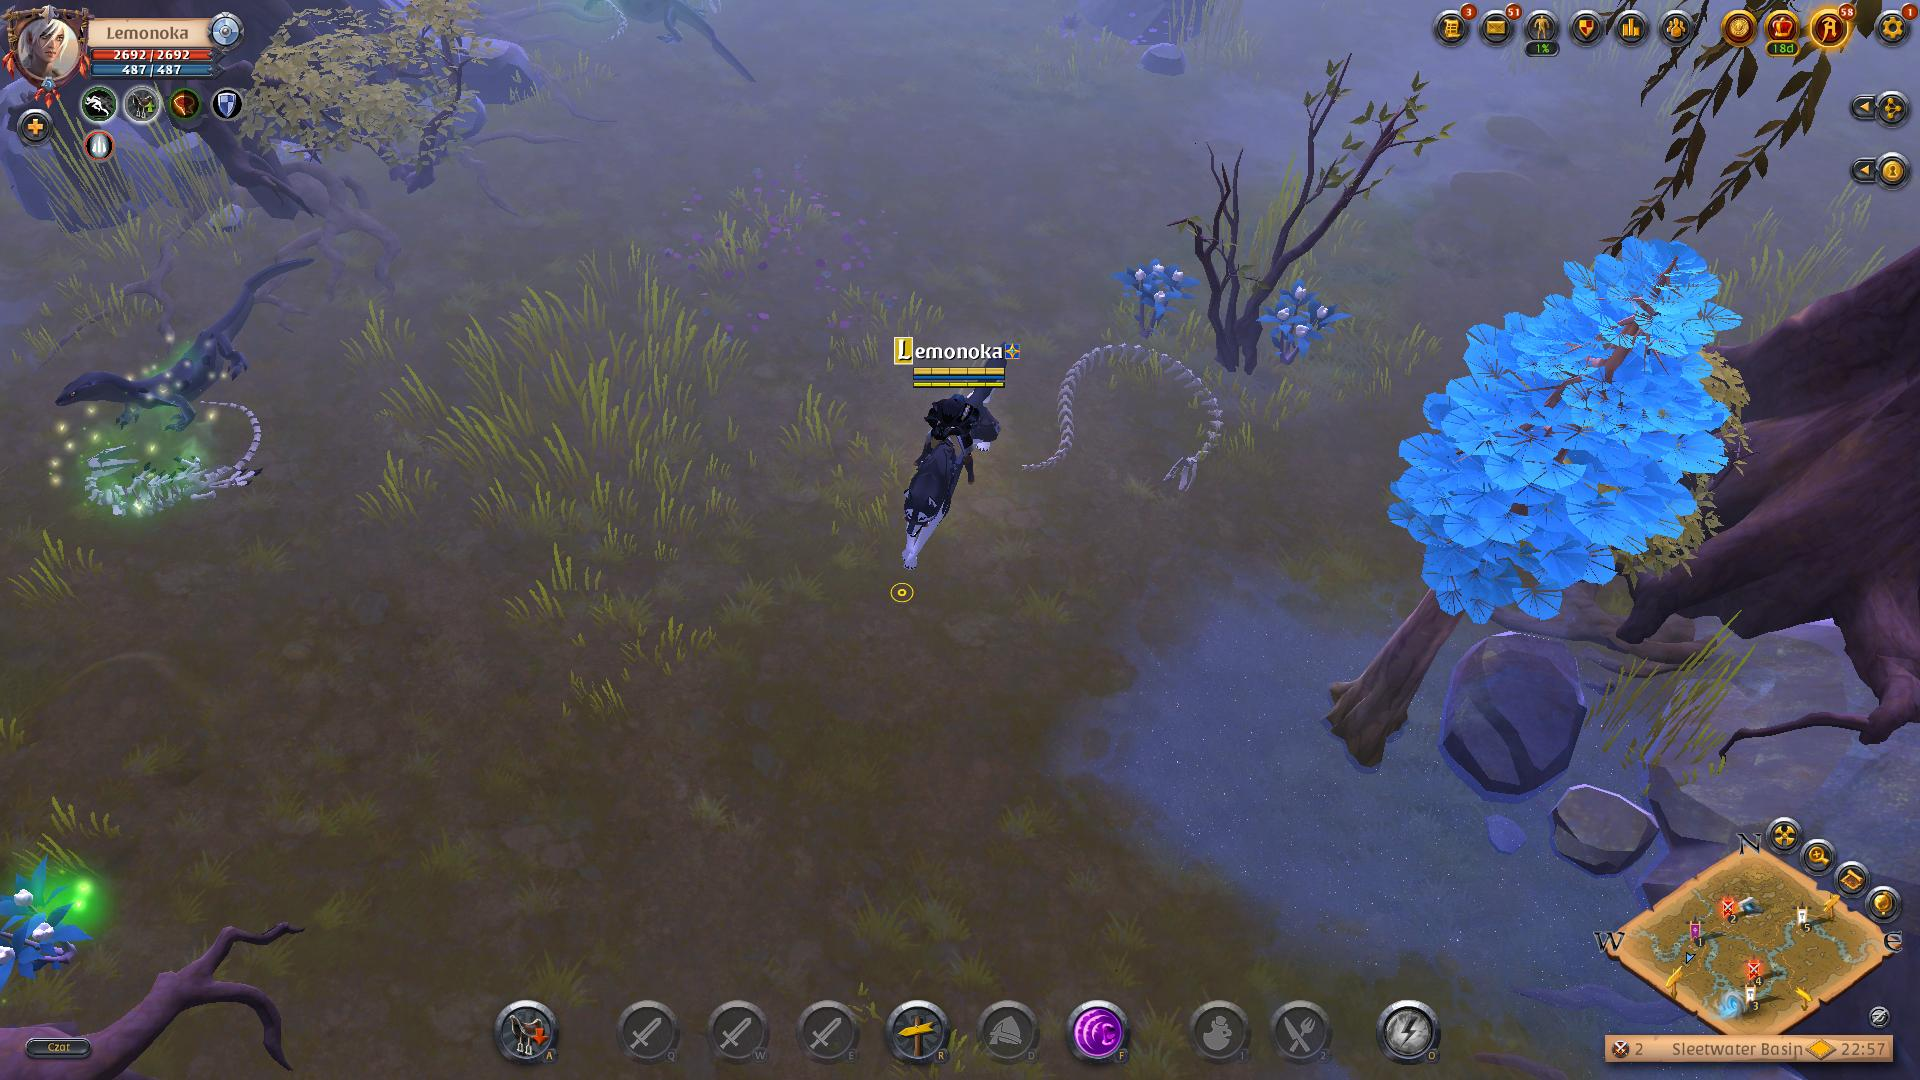fiber tier 4: (1259, 276, 1346, 371), (1113, 253, 1196, 340)
wood tier 3: (1387, 233, 1747, 630)
